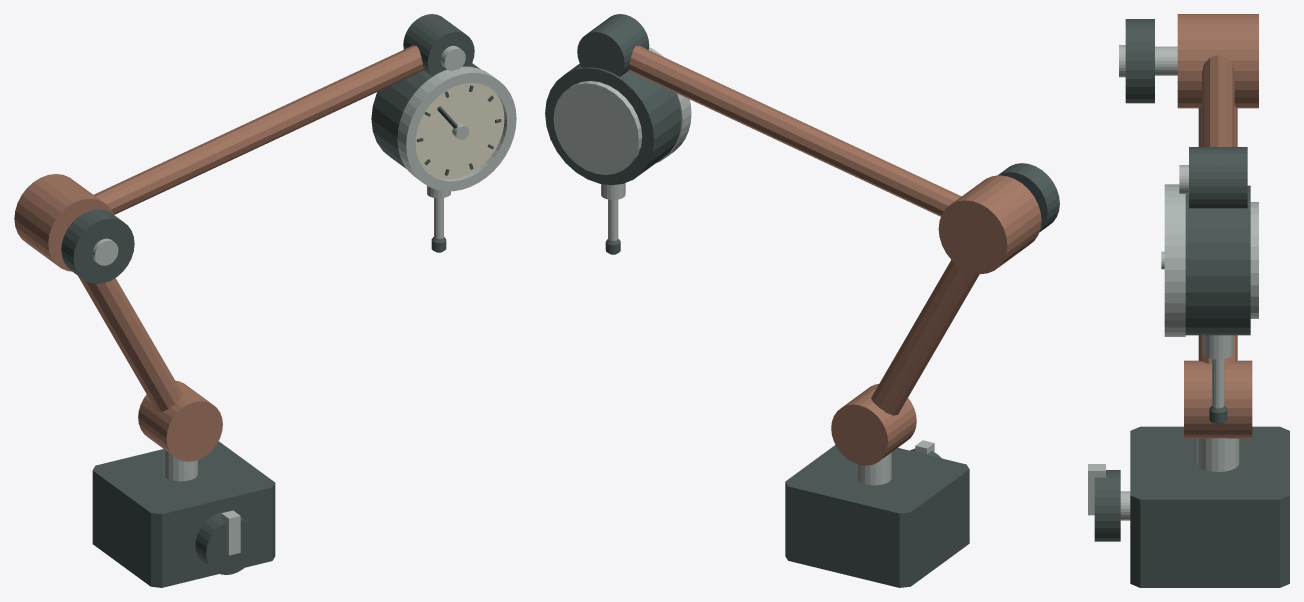
3 views of the same model, side by side, from view 1: azimuth 30°, elevation 25°; view 2: azimuth 150°, elevation 25°; view 3: azimuth 270°, elevation 25° (orthographic). The views are drawn at different scales.
Parts seen in each view (by area): view 1: WholeChamferedMagneticStyleBase, WholeUpperObliqueArm, WholeRecessedOpaqueDialFace, WholeThickOpenCircularBezel, WholeCentralElbowHousing, WholeLowerObliqueArm, WholeLowerSwivelHousing, WholeProudCentralLockKnob, WholeTerminalJointHousing, WholeBaseSwitchKnob, WholeRoundIndicatorCase, WholeBaseTopStem (+1 smaller); view 2: WholeChamferedMagneticStyleBase, WholeUpperObliqueArm, WholeCentralElbowHousing, WholeProudIndicatorRearCap, WholeRoundIndicatorCase, WholeLowerObliqueArm, WholeLowerSwivelHousing, WholeTerminalJointHousing, WholeProudCentralLockKnob, WholeBaseTopStem; view 3: WholeChamferedMagneticStyleBase, WholeRoundIndicatorCase, WholeCentralElbowHousing, WholeLowerSwivelHousing, WholeTerminalJointHousing, WholeThickOpenCircularBezel, WholeUpperObliqueArm, WholeProudCentralLockKnob, WholeBaseSwitchKnob, WholeBaseTopStem, WholeProudIndicatorRearCap, WholeLowerObliqueArm (+7 smaller).
Part boxes in pixels (bbox=[...]): WholeChamferedMagneticStyleBase: bbox=[92, 441, 275, 587]; WholeUpperObliqueArm: bbox=[94, 45, 423, 214]; WholeRecessedOpaqueDialFace: bbox=[415, 83, 504, 179]; WholeThickOpenCircularBezel: bbox=[397, 66, 516, 191]; WholeCentralElbowHousing: bbox=[14, 174, 113, 271]; WholeLowerObliqueArm: bbox=[78, 276, 183, 411]; WholeLowerSwivelHousing: bbox=[138, 380, 222, 461]; WholeProudCentralLockKnob: bbox=[61, 209, 134, 283]; WholeTerminalJointHousing: bbox=[403, 14, 474, 76]; WholeBaseSwitchKnob: bbox=[195, 511, 257, 574]; WholeRoundIndicatorCase: bbox=[371, 63, 479, 168]; WholeBaseTopStem: bbox=[163, 448, 197, 481]; WholeChamferedMagneticStyleBase: bbox=[785, 445, 969, 587]; WholeUpperObliqueArm: bbox=[628, 45, 961, 216]; WholeCentralElbowHousing: bbox=[938, 175, 1041, 274]; WholeProudIndicatorRearCap: bbox=[553, 81, 642, 174]; WholeRoundIndicatorCase: bbox=[545, 63, 681, 185]; WholeLowerObliqueArm: bbox=[871, 260, 979, 415]; WholeLowerSwivelHousing: bbox=[831, 384, 916, 465]; WholeTerminalJointHousing: bbox=[577, 14, 649, 76]; WholeProudCentralLockKnob: bbox=[997, 163, 1059, 232]; WholeBaseTopStem: bbox=[856, 452, 891, 485]; WholeChamferedMagneticStyleBase: bbox=[1130, 426, 1289, 587]; WholeRoundIndicatorCase: bbox=[1185, 185, 1250, 335]; WholeCentralElbowHousing: bbox=[1177, 14, 1258, 108]; WholeLowerSwivelHousing: bbox=[1184, 360, 1252, 438]; WholeTerminalJointHousing: bbox=[1189, 147, 1247, 208]; WholeThickOpenCircularBezel: bbox=[1164, 184, 1185, 336]; WholeUpperObliqueArm: bbox=[1202, 55, 1234, 146]; WholeProudCentralLockKnob: bbox=[1125, 19, 1154, 103]; WholeBaseSwitchKnob: bbox=[1094, 470, 1120, 541]; WholeBaseTopStem: bbox=[1197, 438, 1239, 471]; WholeProudIndicatorRearCap: bbox=[1250, 202, 1258, 318]; WholeLowerObliqueArm: bbox=[1198, 106, 1237, 363].
Size of the model in its own units: 0.394 by 0.375 by 0.124.
